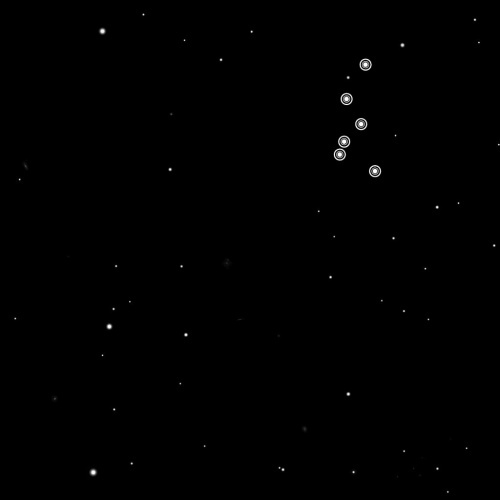cassiopeia: (328, 54, 386, 183)
